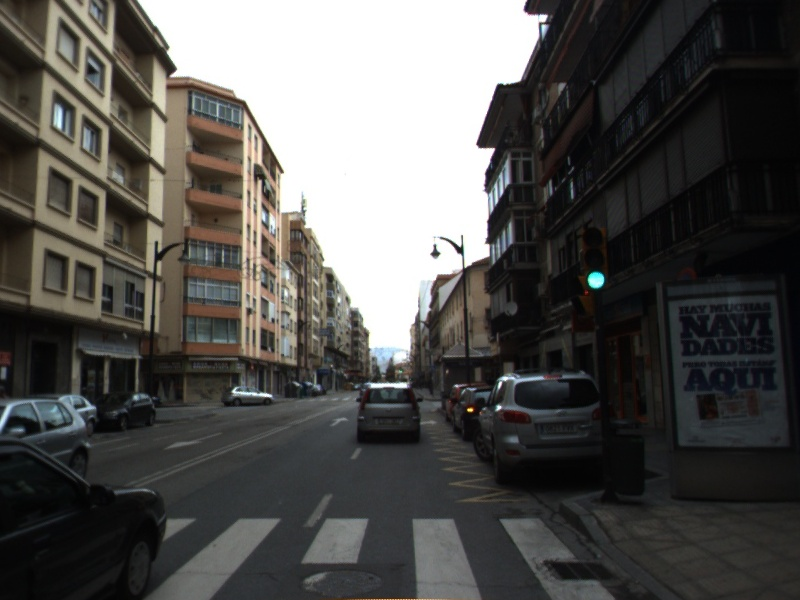STRAIGHT: (328, 415, 350, 428)
